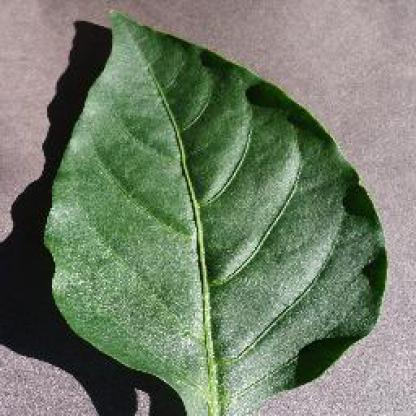good leaf: (63, 16, 376, 346)
